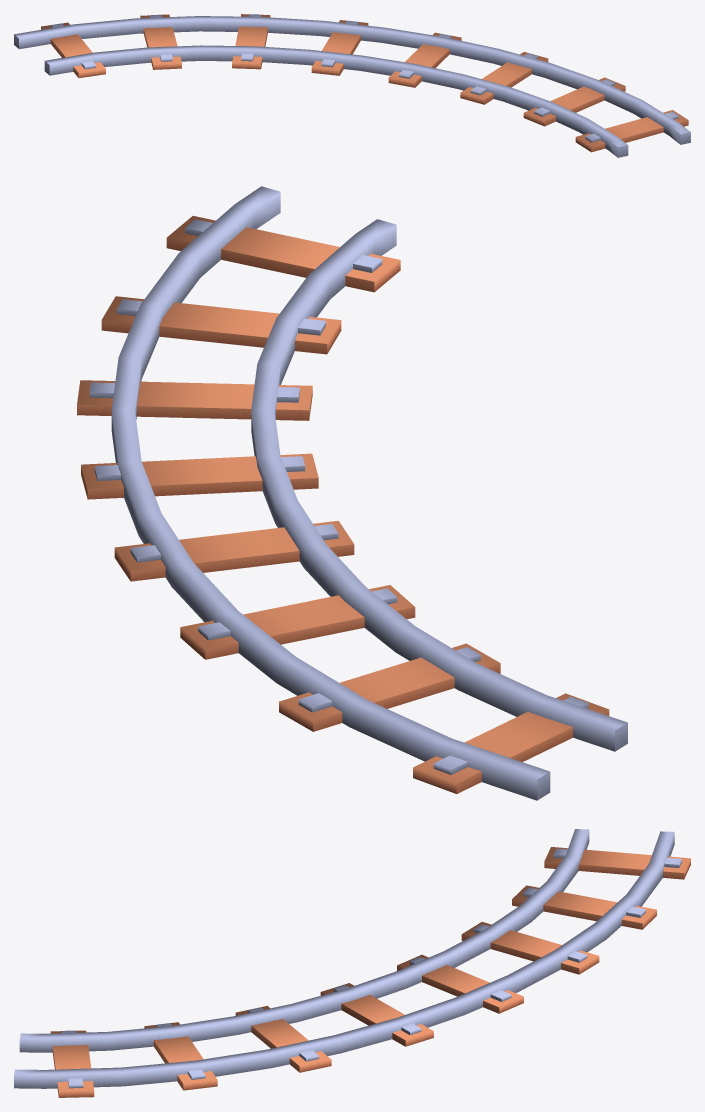
The model's file is railroad-corner-large.002_lev2.glb.
The picture shows the model from 3 angles, top to bottom: view 1: azimuth 30°, elevation 25°; view 2: azimuth 150°, elevation 25°; view 3: azimuth 270°, elevation 25°; orthographic projection. The views are drawn at different scales.
Visible parts, largest first — view 1: railroad-corner-large.002_lev2; view 2: railroad-corner-large.002_lev2; view 3: railroad-corner-large.002_lev2.
Part boxes in pixels (x1,y1,x2,y2): railroad-corner-large.002_lev2: (14, 14, 690, 157); railroad-corner-large.002_lev2: (77, 186, 627, 800); railroad-corner-large.002_lev2: (14, 829, 690, 1097).
Bounding box in the file's own units: 4.25 × 0.1 × 4.75.
1 material, 1 textured.
